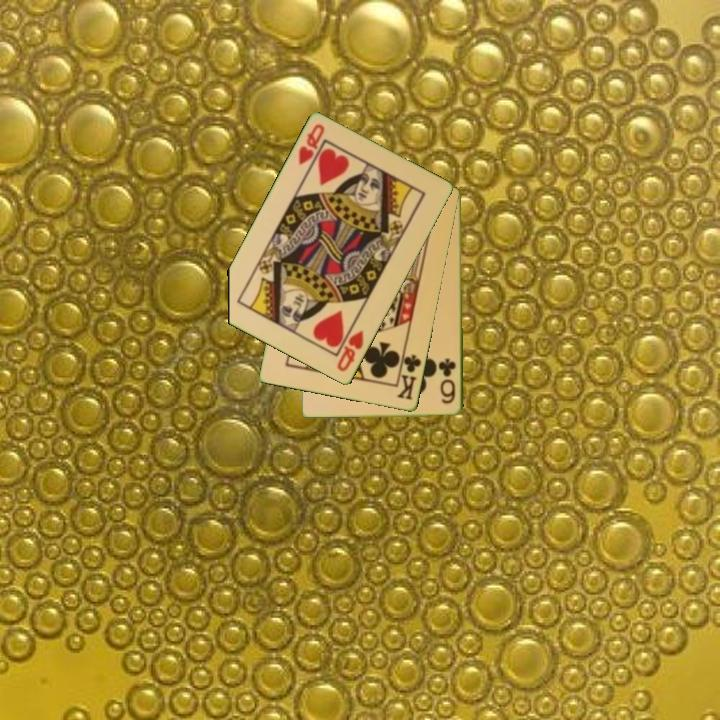6c: (437, 355, 459, 407)
Kc: (394, 347, 424, 403)
Qh: (333, 327, 367, 375), (295, 121, 328, 168)
